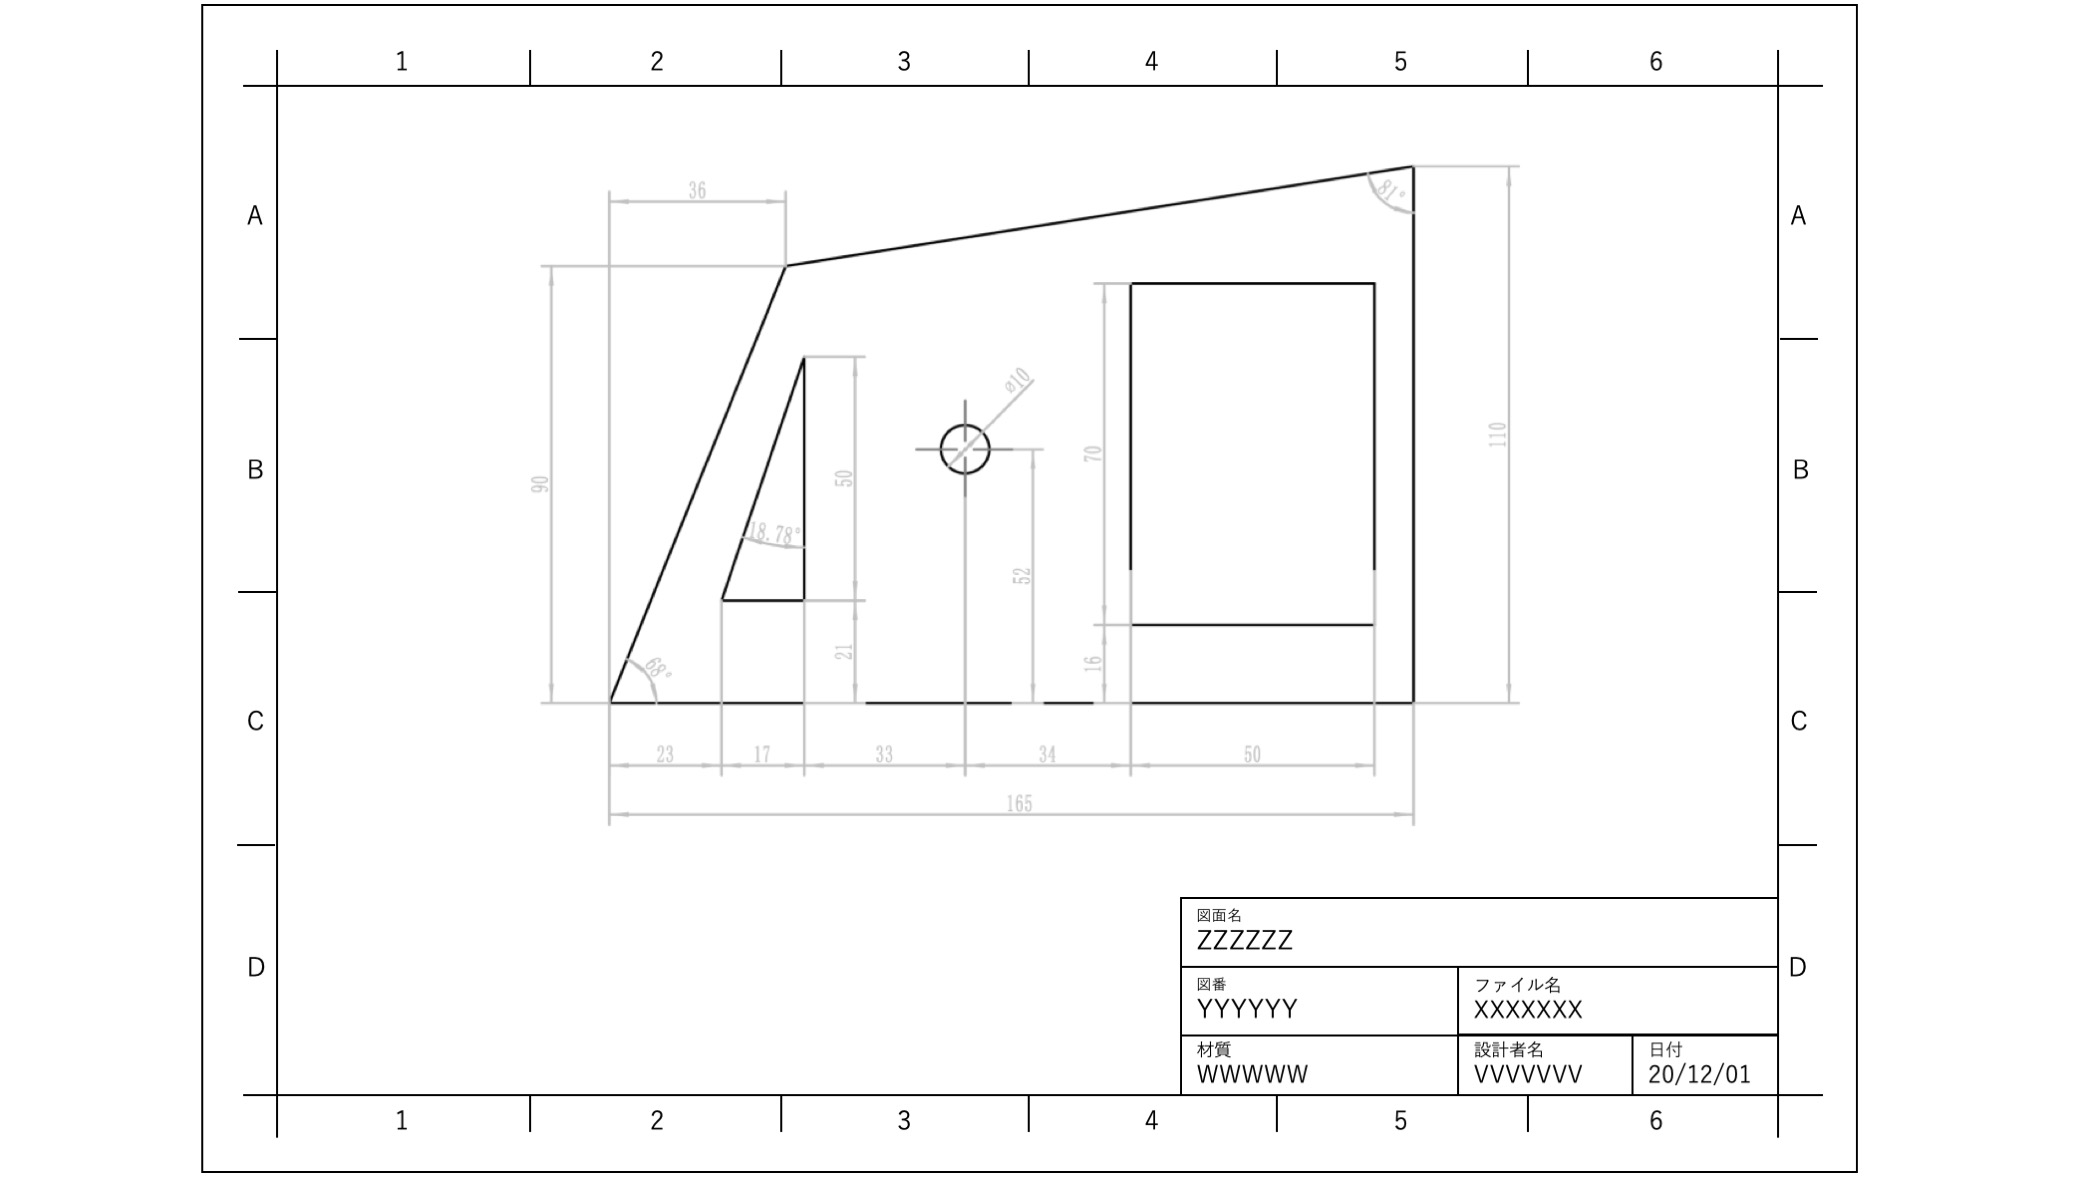circle: (925, 420, 1002, 479)
rectangle: (1116, 267, 1386, 642)
triangle: (714, 348, 816, 614)
